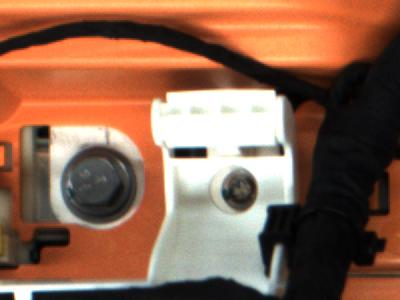nut_b: (53, 149, 134, 221)
